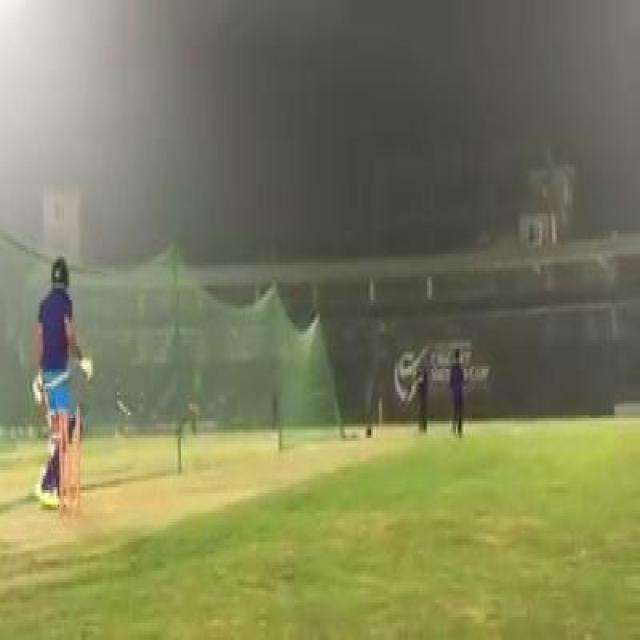other: (98, 448, 315, 510)
